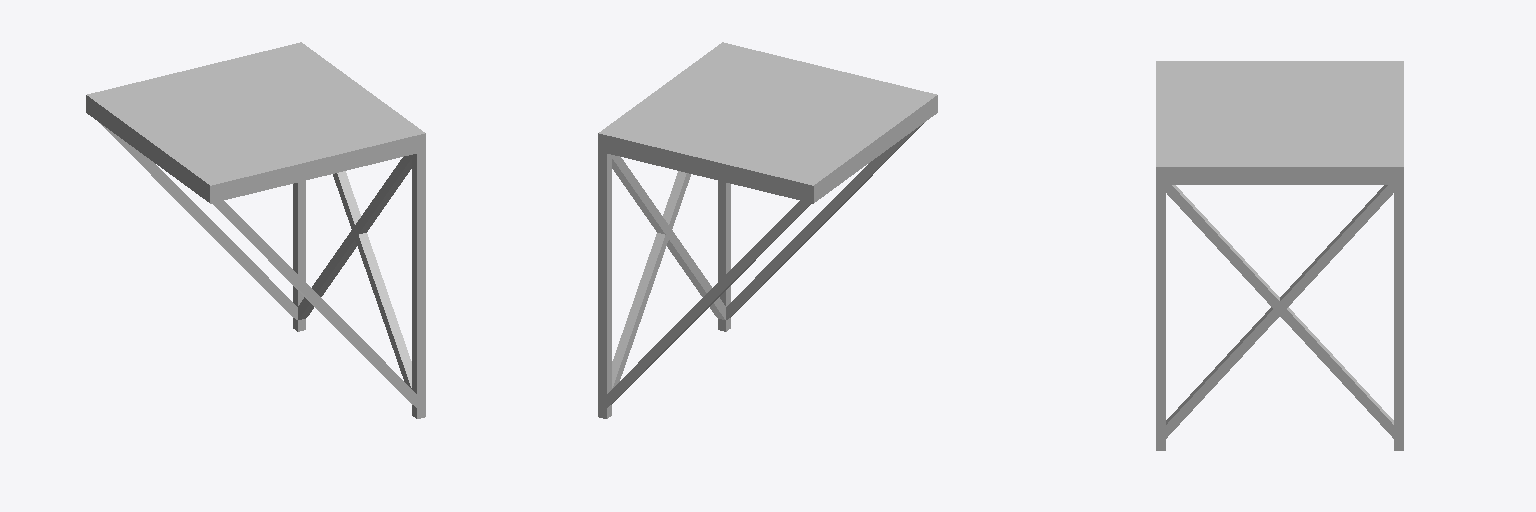
File: Platform duildIn.obj
3 renders of one model, left to right at view 1: azimuth 30°, elevation 25°; view 2: azimuth 150°, elevation 25°; view 3: azimuth 270°, elevation 25°, orthographic.
Parts seen in each view (by area): view 1: pCube19; view 2: pCube19; view 3: pCube19.
Boxes of the visible parts, <box> form: pCube19: <box>86,42,425,418</box>; pCube19: <box>598,42,937,418</box>; pCube19: <box>1156,61,1403,450</box>.
Size of the model in its own units: 25 by 31.5 by 25.